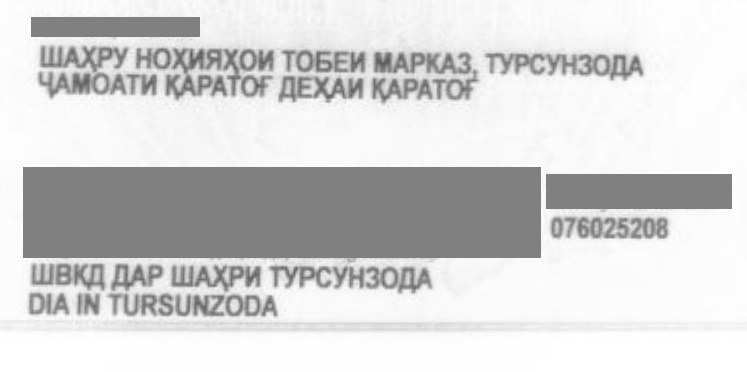0: (548, 213, 568, 239), (588, 213, 606, 239), (641, 213, 659, 239)
2: (602, 213, 620, 239), (629, 213, 647, 239)
5: (615, 213, 633, 239)
6: (574, 213, 592, 239)
7: (562, 213, 580, 239)
8: (655, 213, 673, 239)
А: (65, 33, 85, 79), (108, 60, 128, 106), (192, 258, 214, 298), (418, 260, 440, 300), (55, 60, 73, 106), (213, 62, 231, 108), (331, 63, 349, 109), (395, 39, 411, 85), (441, 40, 457, 86), (628, 43, 644, 89), (182, 61, 198, 107), (390, 64, 406, 110), (418, 64, 434, 110), (132, 257, 148, 297)
Б: (313, 37, 333, 83)
В: (54, 257, 74, 297)
Д: (88, 257, 114, 297), (276, 62, 298, 108), (610, 43, 630, 89), (396, 260, 418, 300), (112, 257, 132, 297)
Е: (331, 38, 349, 84), (296, 63, 314, 109)
З: (578, 42, 596, 88), (458, 40, 474, 86), (364, 259, 382, 299)
И: (242, 258, 270, 298), (187, 35, 207, 81), (256, 36, 272, 82), (350, 38, 366, 84), (348, 63, 362, 109), (142, 61, 152, 107)
К: (161, 61, 183, 107), (427, 39, 443, 85), (71, 257, 89, 297)
М: (370, 38, 394, 84), (69, 60, 89, 106)
Н: (130, 34, 154, 80), (557, 42, 577, 88), (345, 259, 363, 299)
О: (153, 34, 173, 80), (90, 60, 110, 106), (238, 36, 254, 82), (298, 37, 314, 83), (594, 42, 610, 88), (243, 62, 259, 108), (378, 259, 396, 299), (448, 65, 462, 111)
Р: (144, 257, 178, 297), (195, 61, 213, 107), (295, 259, 315, 299), (99, 34, 115, 80), (409, 39, 425, 85), (514, 41, 530, 87), (404, 64, 420, 110), (228, 258, 244, 298)
С: (315, 259, 335, 299), (531, 41, 547, 87)
Т: (284, 37, 300, 83), (486, 40, 502, 86), (128, 61, 144, 107), (228, 62, 244, 108), (433, 64, 449, 110), (271, 259, 287, 299)
У: (499, 41, 515, 87), (544, 41, 560, 87), (334, 259, 350, 299), (285, 259, 299, 299), (114, 34, 126, 80)
Ч: (35, 60, 57, 106)
Ш: (40, 33, 62, 79), (32, 257, 52, 297), (172, 258, 190, 298)
Я: (205, 35, 223, 81)
Ғ: (258, 62, 272, 108)
Қ: (369, 64, 391, 110)
Ҳ: (312, 63, 332, 109), (170, 35, 188, 81), (81, 33, 97, 79), (224, 36, 240, 82), (215, 258, 231, 298)
